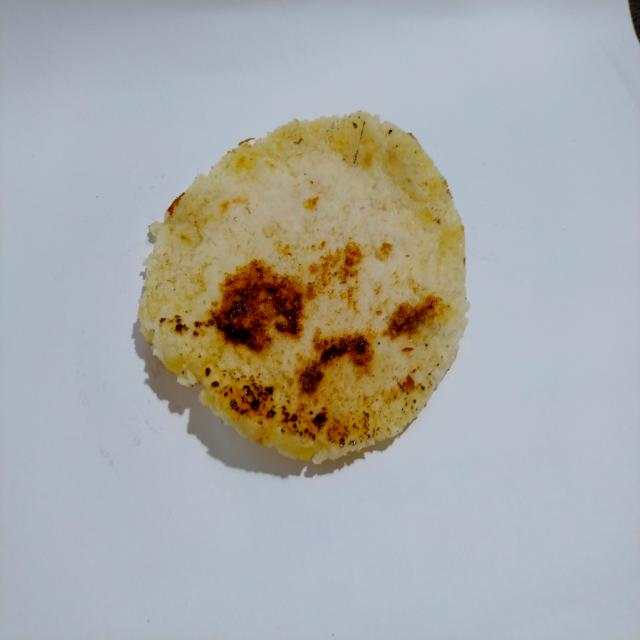Mbeju: (126, 100, 476, 478)
